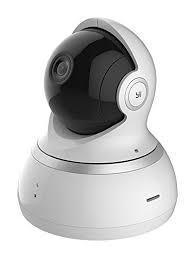maru: (37, 17, 156, 150)
